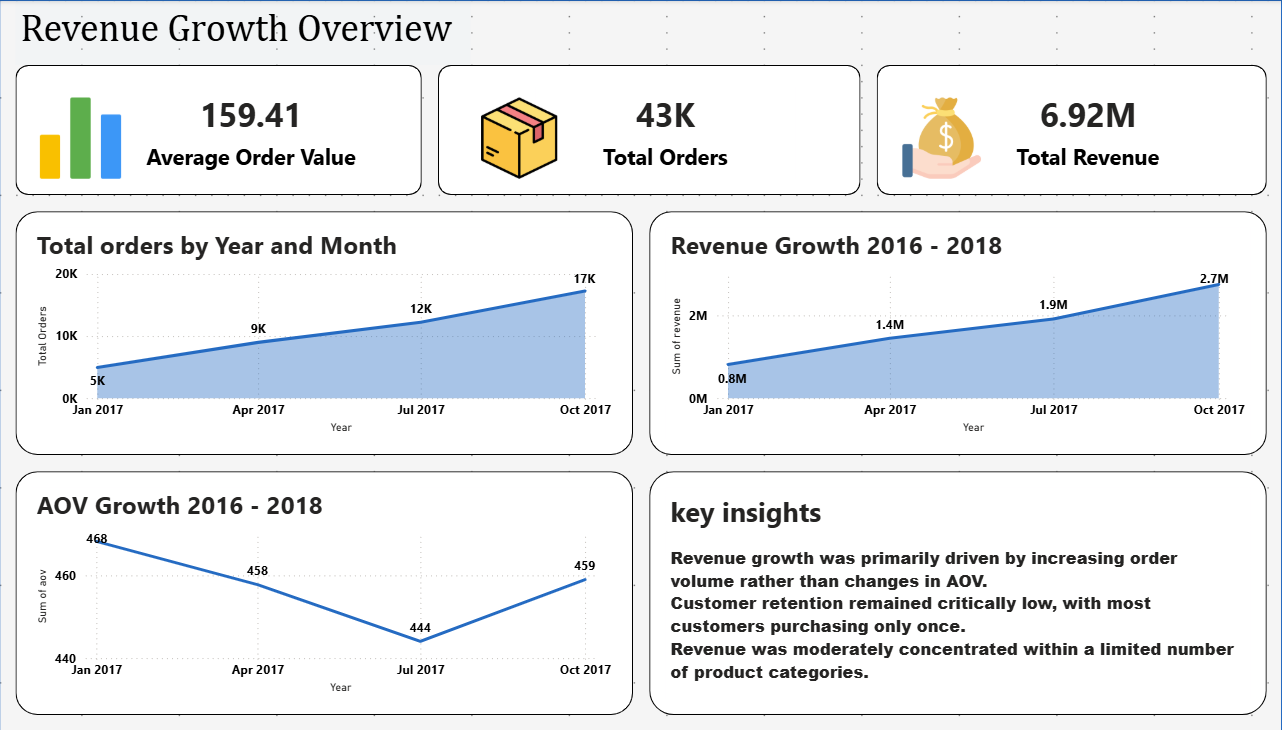

The dashboard page shown, as its layout file describes it:
{"tool":"powerbi","page":{"name":"Overview","canvas":[1280,720],"ordinal":0},"visuals":[{"type":"shape","box":[16,0,1264,720],"z":0},{"type":"shape","box":[880,64,384,128],"z":1000},{"type":"shape","box":[448,64,416,128],"z":2000},{"type":"shape","box":[32,64,400,128],"z":3000},{"type":"shape","box":[656,208,608,240],"z":4000},{"type":"shape","box":[32,464,608,240],"z":5000},{"type":"shape","box":[32,208,608,240],"z":6000},{"type":"card","fields":{"Values":["Query1.Average Order Value"]},"box":[144,80,240,96],"z":7000},{"type":"card","fields":{"Values":["Query1.Total Orders"]},"box":[544,80,256,96],"z":8000},{"type":"card","fields":{"Values":["Query1.Total Revenue"]},"box":[960,80,256,96],"z":9000},{"type":"areaChart","title":"Revenue Growth 2016 - 2018","fields":{"Category":["Query1.month.Variation.Date Hierarchy.Year","Query1.month.Variation.Date Hierarchy.Quarter","Query1.month.Variation.Date Hierarchy.Month","Query1.month.Variation.Date Hierarchy.Day"],"Y":["Sum(Query1.revenue)"]},"box":[672,224,576,208],"z":10000},{"type":"areaChart","title":"Total orders by Year and Month","fields":{"Category":["Query1.month.Variation.Date Hierarchy.Year","Query1.month.Variation.Date Hierarchy.Quarter","Query1.month.Variation.Date Hierarchy.Month","Query1.month.Variation.Date Hierarchy.Day"],"Y":["Sum(Query1.orders)"]},"box":[48,224,576,208],"z":11000},{"type":"lineChart","title":"AOV Growth 2016 - 2018","fields":{"Category":["Query1.month.Variation.Date Hierarchy.Year","Query1.month.Variation.Date Hierarchy.Quarter","Query1.month.Variation.Date Hierarchy.Month","Query1.month.Variation.Date Hierarchy.Day"],"Y":["Sum(Query1.aov)"]},"box":[48,480,576,208],"z":12000},{"type":"shape","box":[656,464,608,240],"z":13000},{"type":"textbox","box":[672,480,576,208],"z":14000},{"type":"textbox","box":[32,0,448,64],"z":15000},{"type":"image","box":[896,96,96,80],"z":16000},{"type":"image","box":[48,96,96,80],"z":17000},{"type":"image","box":[480,96,96,80],"z":18000}]}

Visuals, with their boxes in screenshot pixels (x1, y1, x2, y2), scaled from the page's 1280x720 canvas onto the 1282x730 screenshot:
shape: rect(16, 0, 1281, 729)
shape: rect(881, 65, 1266, 195)
shape: rect(449, 65, 865, 195)
shape: rect(32, 65, 433, 195)
shape: rect(657, 211, 1266, 454)
shape: rect(32, 470, 641, 714)
shape: rect(32, 211, 641, 454)
card - Query1.Average Order Value: rect(144, 81, 385, 178)
card - Query1.Total Orders: rect(545, 81, 801, 178)
card - Query1.Total Revenue: rect(961, 81, 1218, 178)
"Revenue Growth 2016 - 2018" areaChart: rect(673, 227, 1250, 438)
"Total orders by Year and Month" areaChart: rect(48, 227, 625, 438)
"AOV Growth 2016 - 2018" lineChart: rect(48, 487, 625, 698)
shape: rect(657, 470, 1266, 714)
textbox: rect(673, 487, 1250, 698)
textbox: rect(32, 0, 481, 65)
image: rect(897, 97, 994, 178)
image: rect(48, 97, 144, 178)
image: rect(481, 97, 577, 178)
